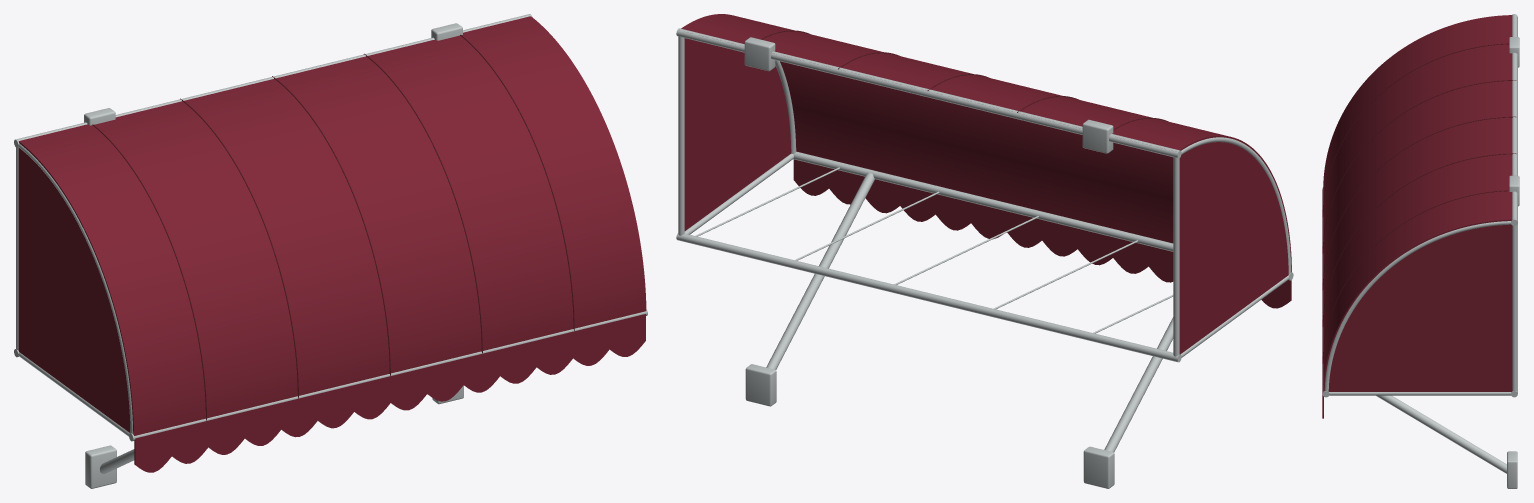
The model's file is A-NEW-20261026-SHOP-AWNING-UNIT-001_LOD0_R3.fbx.
The picture shows the model from 3 angles, left to right: view 1: azimuth 30°, elevation 25°; view 2: azimuth 150°, elevation 25°; view 3: azimuth 270°, elevation 25°; orthographic projection. The views are drawn at different scales.
Visible parts, largest first — view 1: thick curved fabric canopy, rounded end fabric, scalloped front valance, front perimeter rail, rear upper rail, curved end frame, generic wall bracket; view 2: thick curved fabric canopy, rounded end fabric, rounded end fabric.001, scalloped front valance, rear lower rail, rear upper rail, front perimeter rail, short inferred mounting brace.001, short inferred mounting brace, rear upright, rear upright.001, generic wall bracket.001 (+5 smaller); view 3: thick curved fabric canopy, rounded end fabric.001, short inferred mounting brace.001, curved end frame.001, rear upper rail, rear upright.001, end lower frame.001, generic wall bracket.001, fabric seam.003, fabric seam.002, fabric seam.004, fabric seam (+4 smaller).
Part boxes in pixels (x1,y1,x2,y2): thick curved fabric canopy: [20, 16, 645, 435]; rounded end fabric: [18, 141, 135, 435]; scalloped front valance: [134, 314, 645, 472]; front perimeter rail: [129, 309, 647, 441]; rear upper rail: [14, 14, 532, 147]; curved end frame: [18, 143, 133, 433]; generic wall bracket: [85, 445, 116, 488]; thick curved fabric canopy: [683, 14, 1226, 243]; rounded end fabric: [1178, 135, 1291, 354]; rounded end fabric.001: [681, 14, 791, 230]; scalloped front valance: [793, 159, 1291, 308]; rear lower rail: [676, 233, 1181, 362]; rear upper rail: [676, 28, 1181, 158]; front perimeter rail: [793, 151, 1293, 280]; short inferred mounting brace.001: [766, 172, 874, 369]; short inferred mounting brace: [1104, 317, 1173, 452]; rear upright: [1173, 157, 1179, 356]; rear upright.001: [678, 36, 684, 235]; generic wall bracket.001: [745, 364, 776, 406]; thick curved fabric canopy: [1323, 15, 1512, 384]; rounded end fabric.001: [1323, 219, 1512, 391]; short inferred mounting brace.001: [1376, 395, 1506, 473]; curved end frame.001: [1324, 221, 1511, 391]; rear upper rail: [1511, 14, 1517, 225]; rear upright.001: [1512, 225, 1516, 391]; end lower frame.001: [1329, 392, 1511, 395]; generic wall bracket.001: [1507, 451, 1517, 488]; fabric seam.003: [1322, 153, 1516, 326]; fabric seam.002: [1322, 116, 1515, 290]; fabric seam.004: [1322, 190, 1508, 363]; fabric seam: [1322, 43, 1508, 216].
Size of the model in its own units: 252 by 174 by 102.
